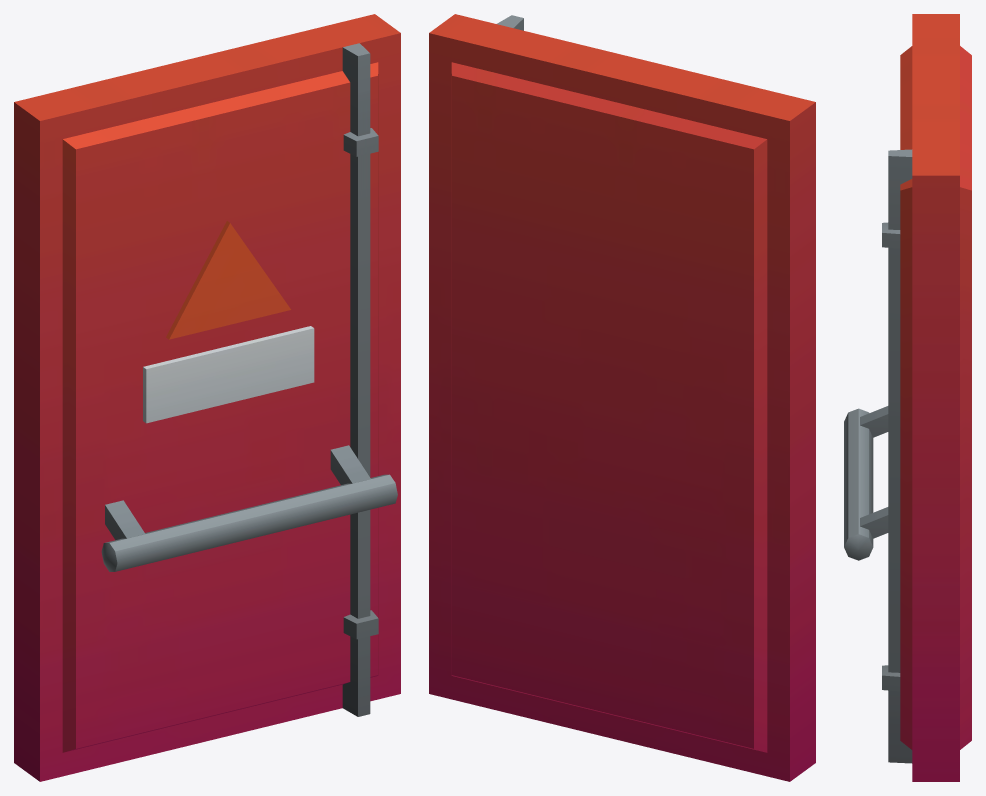
The model's file is door-b.glb.
3 renders of one model, left to right at view 1: azimuth 30°, elevation 25°; view 2: azimuth 150°, elevation 25°; view 3: azimuth 270°, elevation 25°, orthographic. The views are drawn at different scales.
Visible parts, largest first — view 1: Door_B; view 2: Door_B; view 3: Door_B.
Part boxes in pixels (left/top/right/bottom): Door_B: left=14, top=14, right=400, bottom=781; Door_B: left=429, top=14, right=815, bottom=781; Door_B: left=844, top=14, right=971, bottom=781.
Size of the model in its own units: 1.6 by 2.8 by 0.5356.
Materials: 1 (1 with a texture image).
